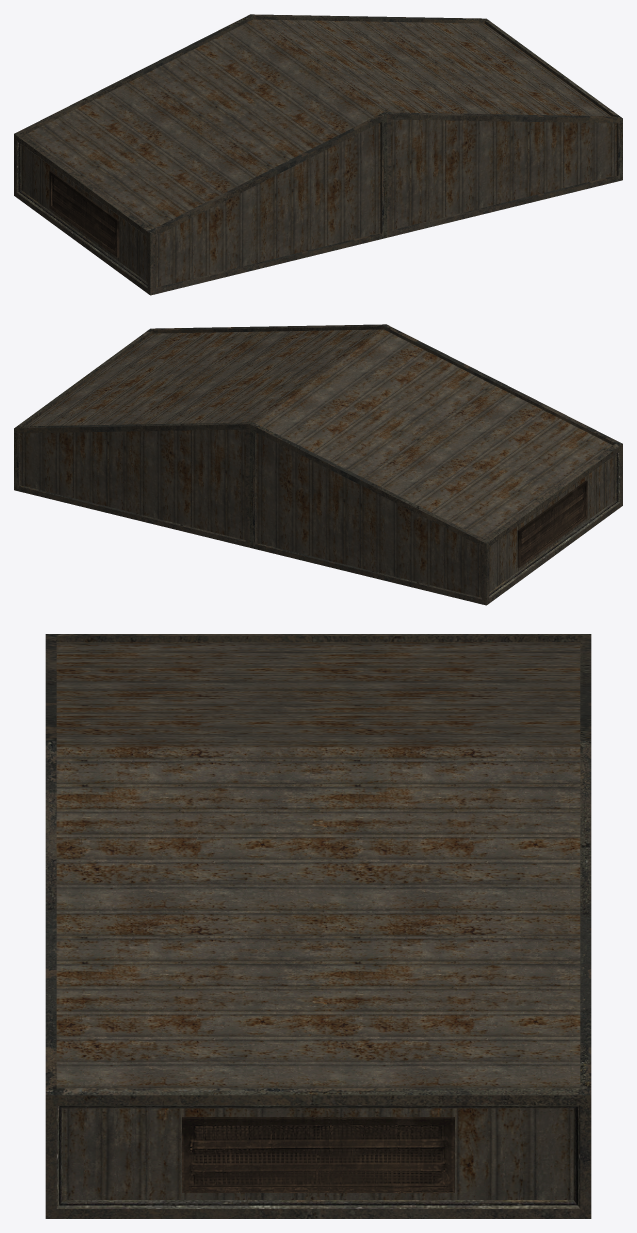
File: roof_mh_4_b_1.obj
The picture shows the model from 3 angles, top to bottom: view 1: azimuth 30°, elevation 25°; view 2: azimuth 150°, elevation 25°; view 3: azimuth 270°, elevation 25°; orthographic projection. The views are drawn at different scales.
Visible parts, largest first — view 1: roof_mh_4_b_1; view 2: roof_mh_4_b_1; view 3: roof_mh_4_b_1.
Part boxes in pixels (bbox=[...]): roof_mh_4_b_1: bbox=[14, 14, 622, 295]; roof_mh_4_b_1: bbox=[14, 324, 622, 605]; roof_mh_4_b_1: bbox=[45, 634, 591, 1218].
Size of the model in its own units: 8 by 2 by 4.
